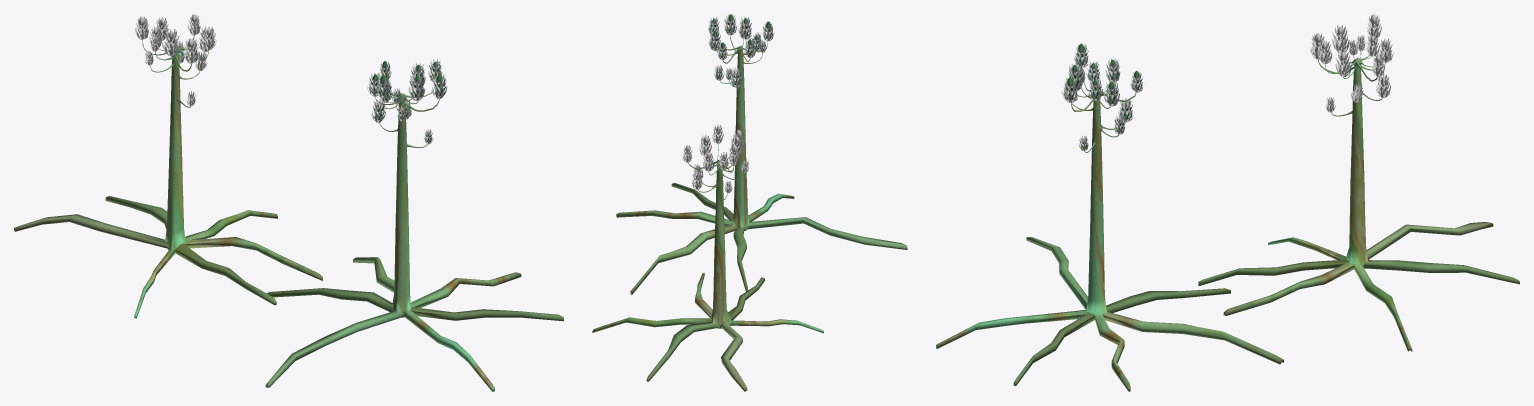
Rendered from araucária.dae.
3 views of the same model, side by side, from view 1: azimuth 30°, elevation 25°; view 2: azimuth 150°, elevation 25°; view 3: azimuth 270°, elevation 25° (orthographic). The views are drawn at different scales.
Parts seen in each view (by area): view 1: araucaria1; view 2: araucaria1; view 3: araucaria1.
Boxes of the visible parts, bbox=[...] form: araucaria1: bbox=[14, 14, 563, 391]; araucaria1: bbox=[592, 14, 907, 391]; araucaria1: bbox=[936, 14, 1519, 391].
Size of what is drawn, in the model's own units: 10.76 by 15.82 by 8.54.
